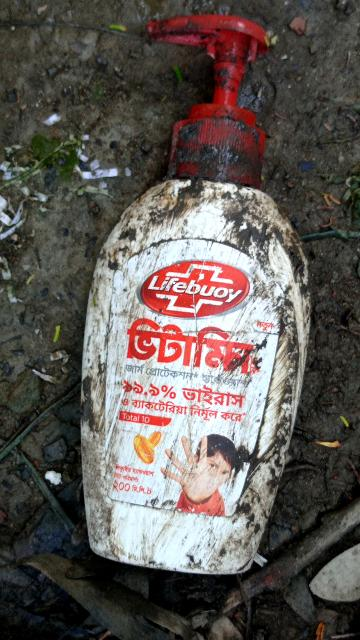bottle: (57, 19, 348, 591)
